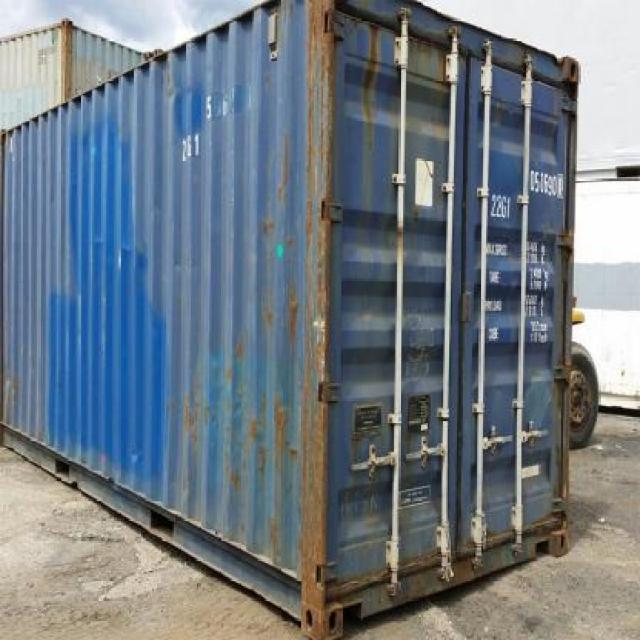Rust: (306, 0, 334, 200), (302, 405, 326, 614), (320, 220, 331, 383), (363, 26, 379, 102), (286, 279, 300, 342), (274, 395, 288, 451), (279, 132, 288, 205), (191, 363, 198, 454), (245, 417, 259, 443), (182, 396, 191, 436), (237, 329, 243, 368), (259, 446, 266, 474), (231, 466, 238, 491), (225, 451, 229, 482)
